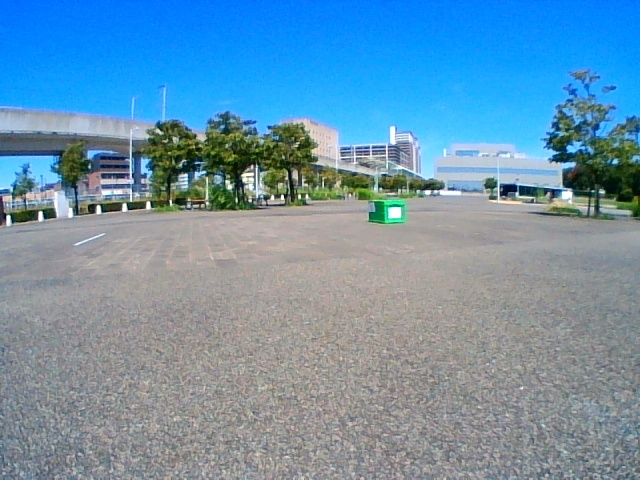green_box: (368, 200, 405, 222)
tag: (368, 202, 374, 212)
